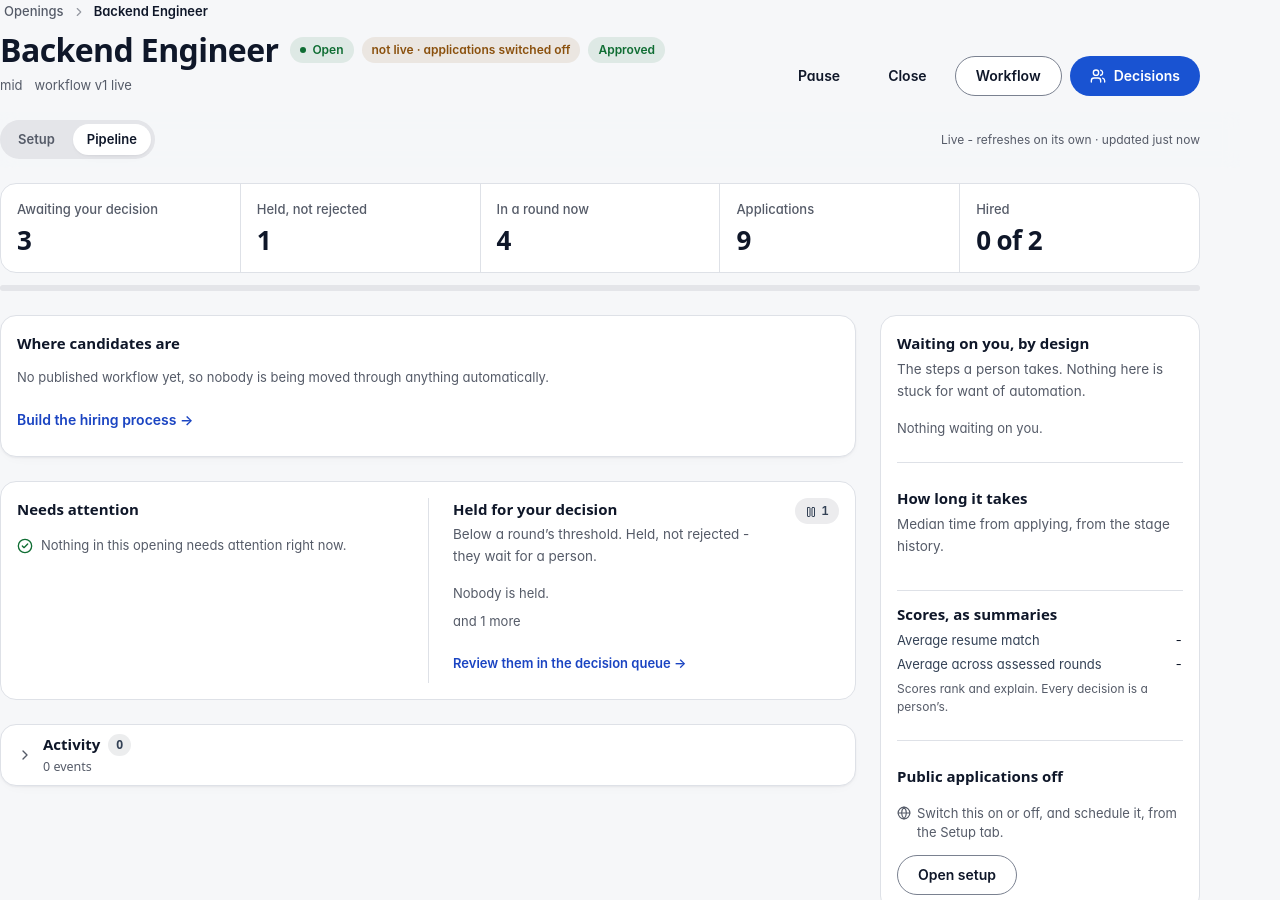
Test: closing an opening - what the count means (HR-M6) › separates those waiting on a decision from those still in progress
Click the button "Close". click: point(907, 76)
box: [868,56,947,96]
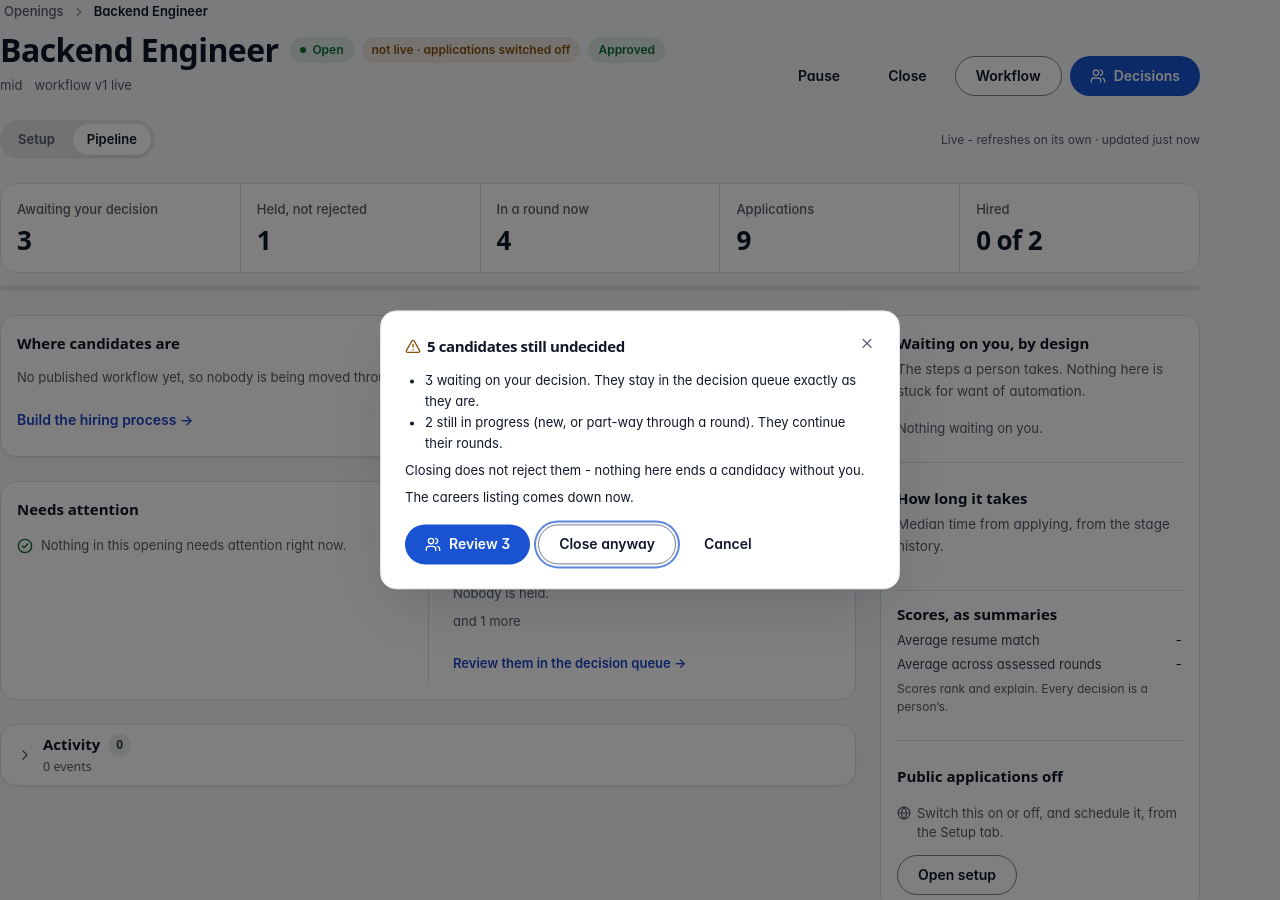
Result: the dialog shows "3 waiting on your decision" at [380,310,900,590]
Result: the dialog shows "2 still in progress" at [380,310,900,590]
Result: the dialog shows "continue their rounds" at [425,414,846,451]
